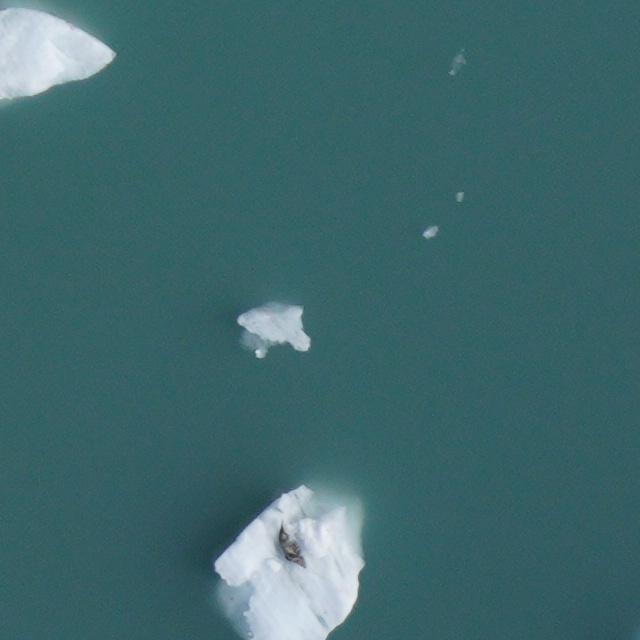seal: (279, 520, 306, 567)
